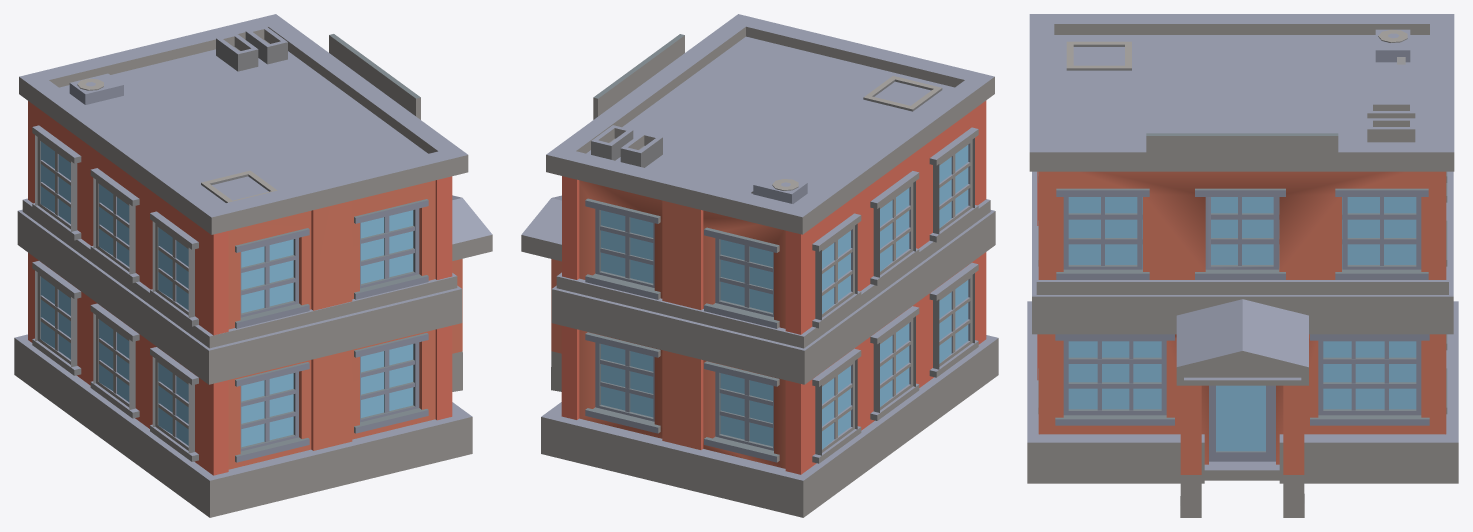
File: putong_xiaoxing01.fbx
The picture shows the model from 3 angles, left to right: view 1: azimuth 30°, elevation 25°; view 2: azimuth 150°, elevation 25°; view 3: azimuth 270°, elevation 25°; orthographic projection. The views are drawn at different scales.
Visible parts, largest first — view 1: putong_xiaoxing01; view 2: putong_xiaoxing01; view 3: putong_xiaoxing01.
Part boxes in pixels (x1=…): putong_xiaoxing01: x1=14, y1=14, x2=492, y2=517; putong_xiaoxing01: x1=521, y1=14, x2=998, y2=517; putong_xiaoxing01: x1=1027, y1=14, x2=1458, y2=517.
Size of the model in its own units: 730 by 705 by 633.
